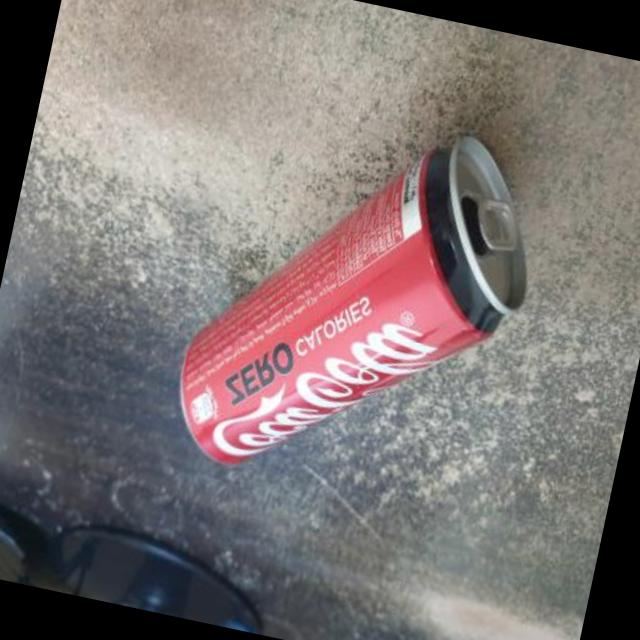metal: (178, 138, 523, 465)
